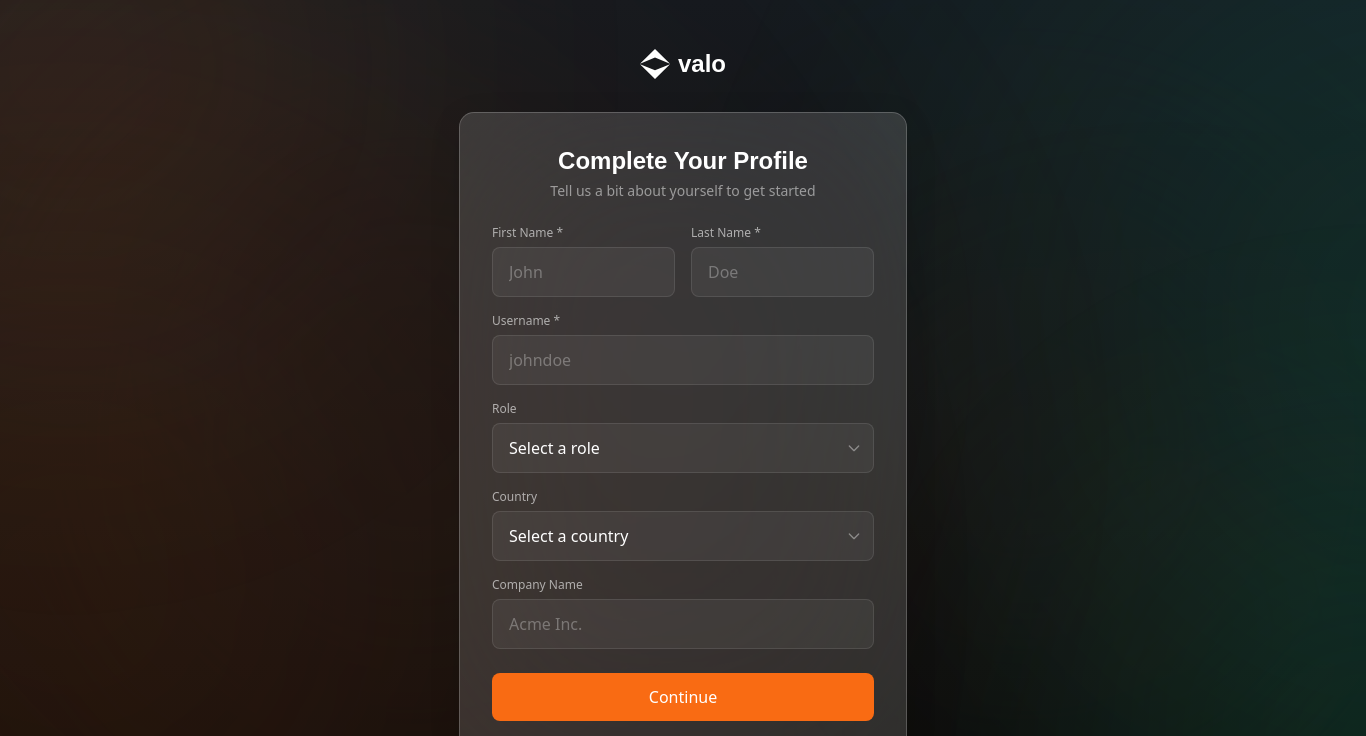
Scenario: OnboardingPage › shows error message when username is taken
In the field with placeholder "John": (584, 272) [492,247,675,297], type "Jane"
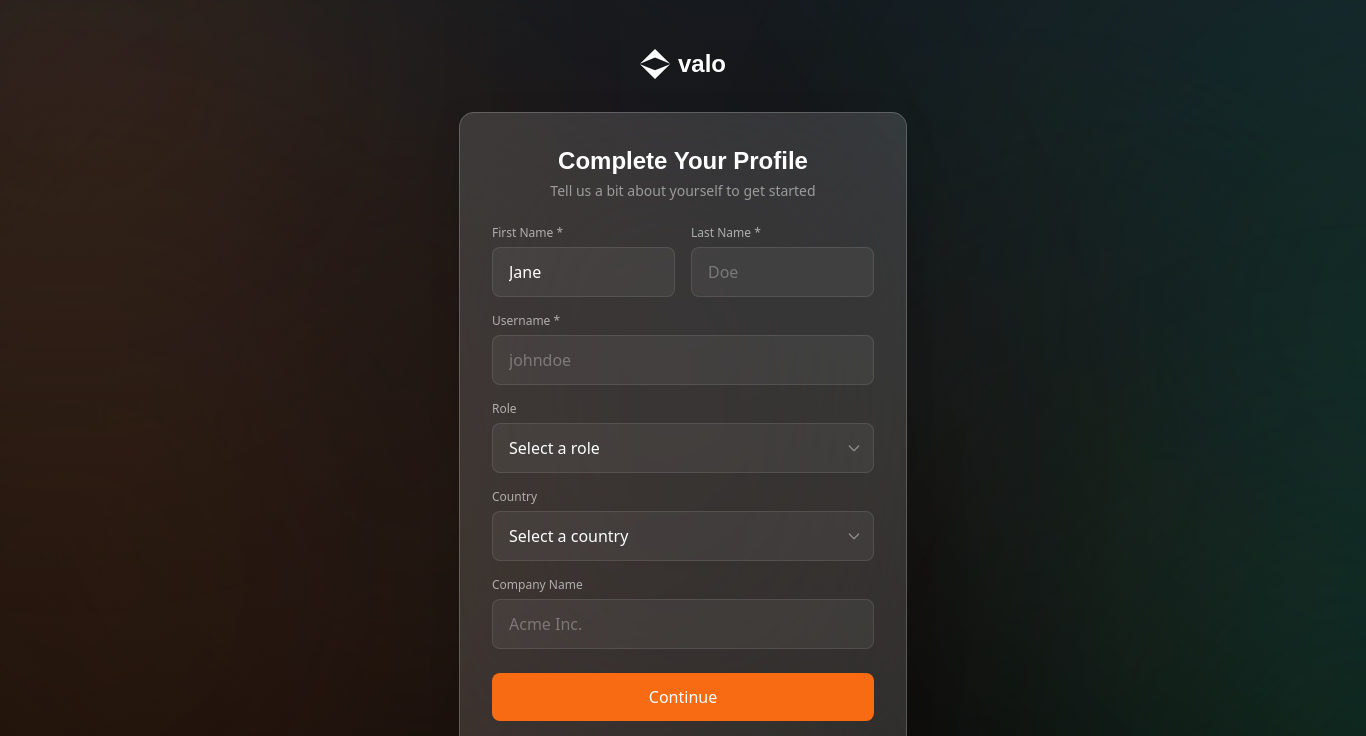
In the field with placeholder "Doe": (782, 272) [691,247,874,297], type "Smith"
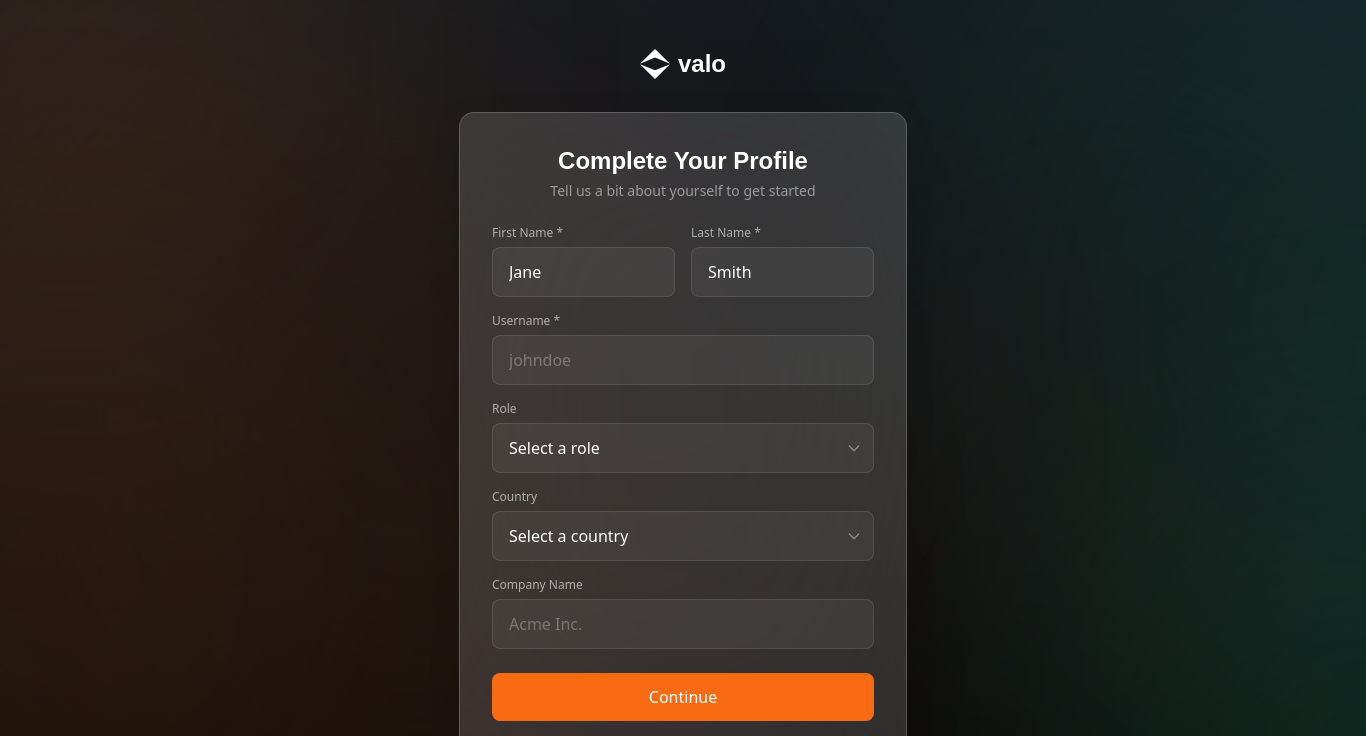
In the field with placeholder "johndoe": (683, 360) [492,335,874,385], type "taken"
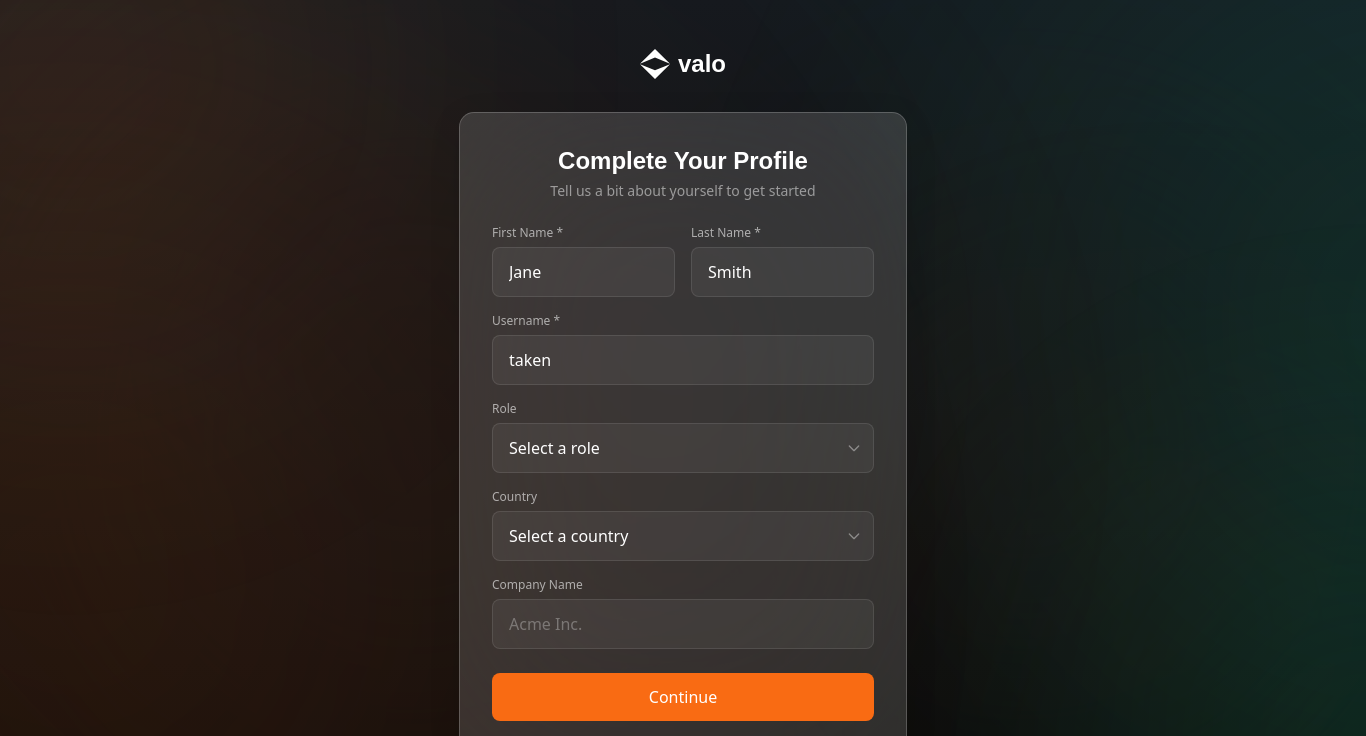
Submit the text "Continue", box [492,225,874,721]
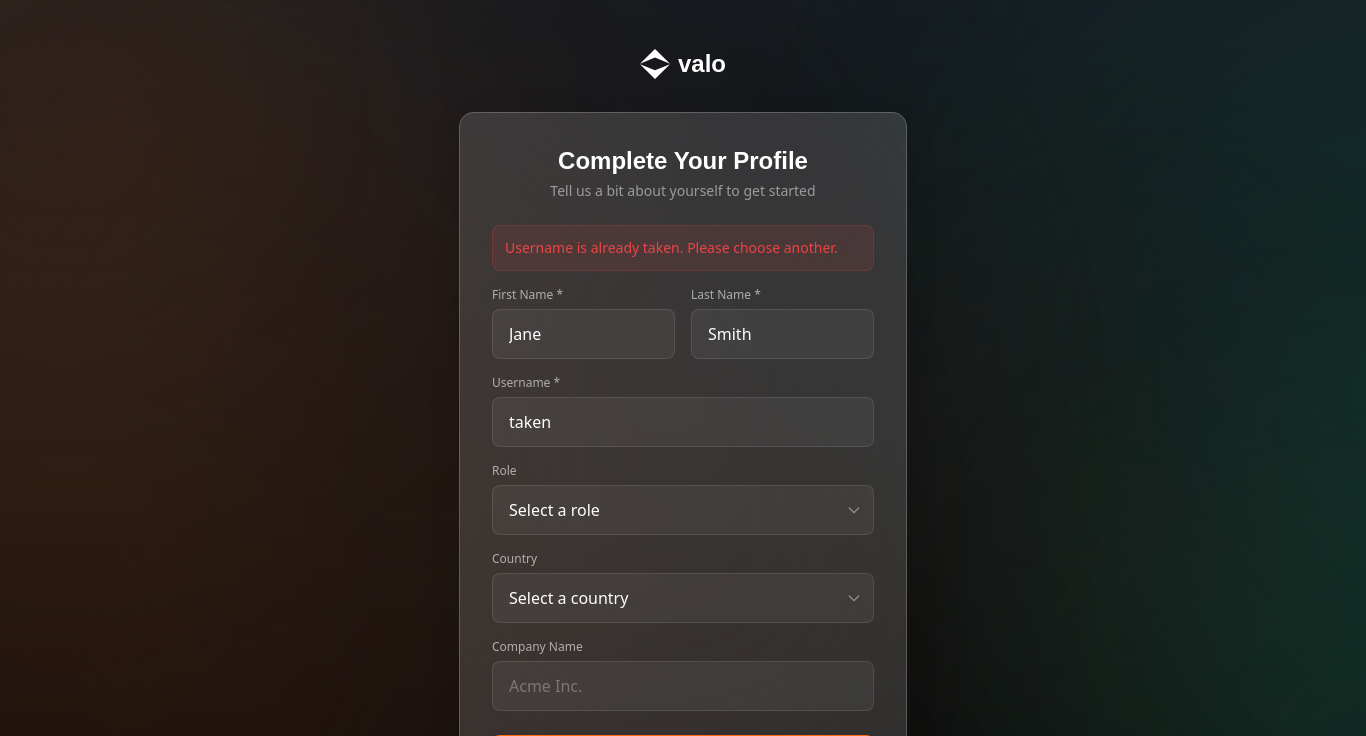
Result: the text "Username is already taken. Please choose another." is shown at [492,225,874,271]
